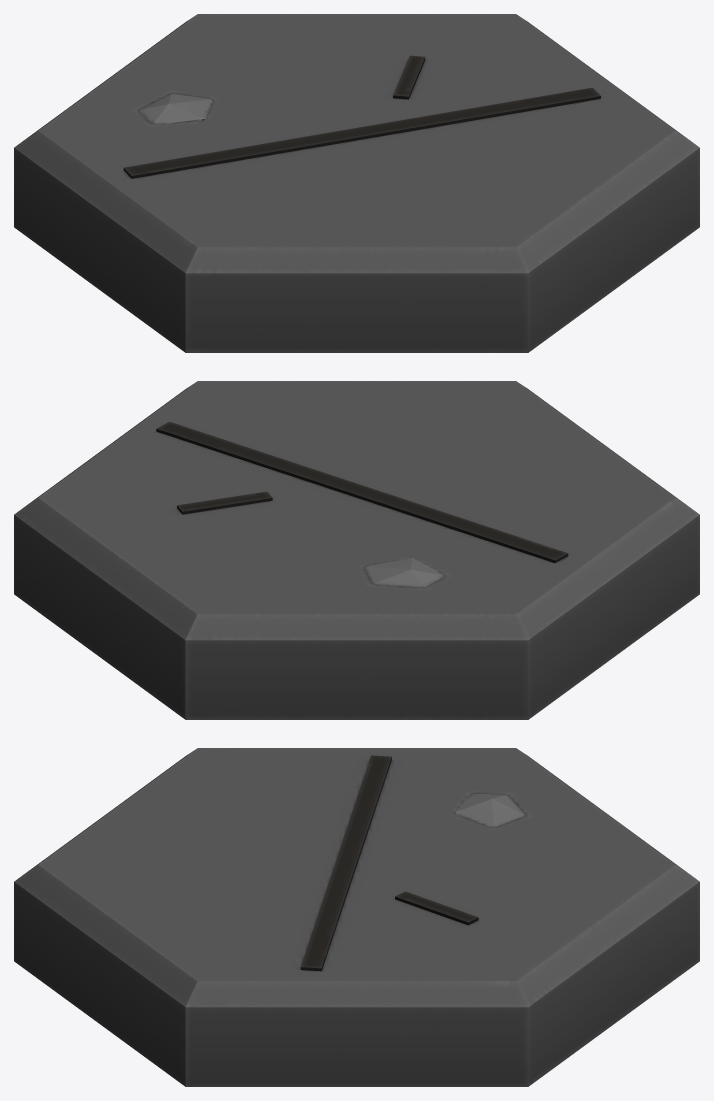
Rendered from tile_hex_ash_c.glb.
The picture shows the model from 3 angles, top to bottom: view 1: azimuth 30°, elevation 25°; view 2: azimuth 150°, elevation 25°; view 3: azimuth 270°, elevation 25°; orthographic projection.
Parts seen in each view (by area): view 1: tile_hex_ash_c; view 2: tile_hex_ash_c; view 3: tile_hex_ash_c.
Part boxes in pixels (bbox=[...]): tile_hex_ash_c: bbox=[14, 14, 699, 352]; tile_hex_ash_c: bbox=[14, 381, 699, 719]; tile_hex_ash_c: bbox=[14, 748, 699, 1086].
Size of the model in its own units: 1.12 by 0.2145 by 1.29.
Materials: 1 (1 with a texture image).
